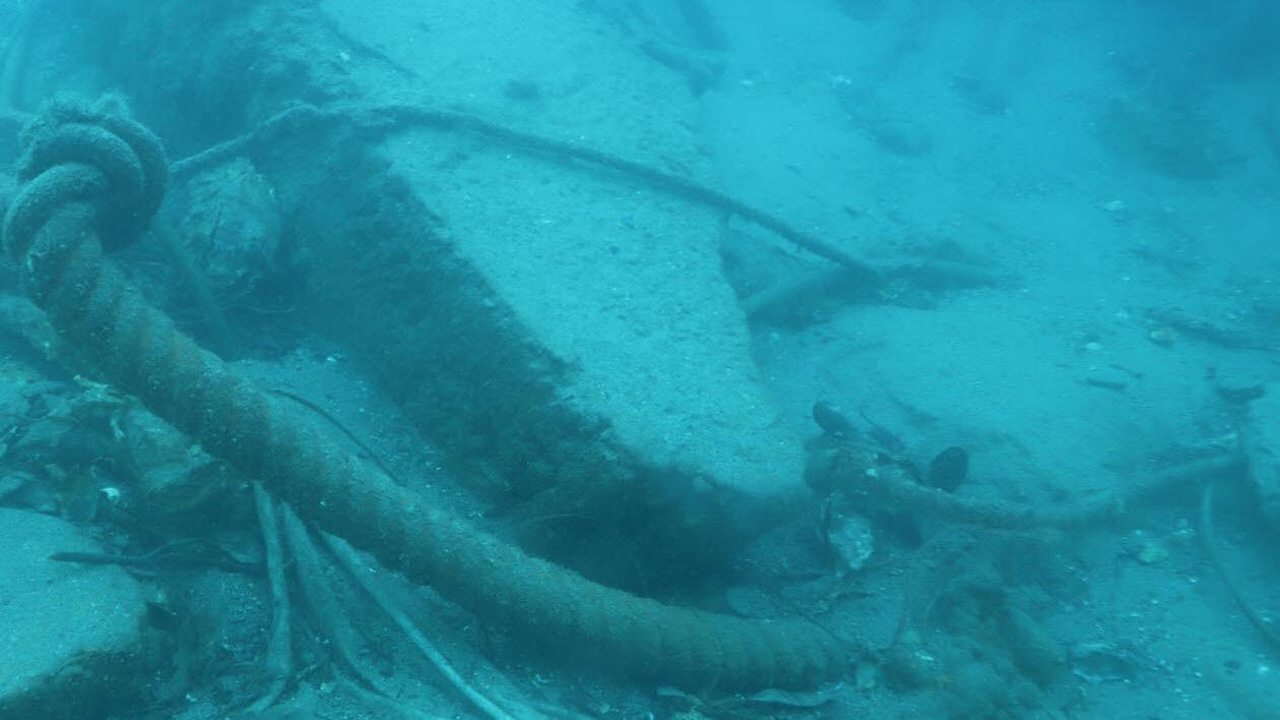rope: (0, 89, 857, 720), (164, 89, 892, 284), (809, 411, 1247, 522)
